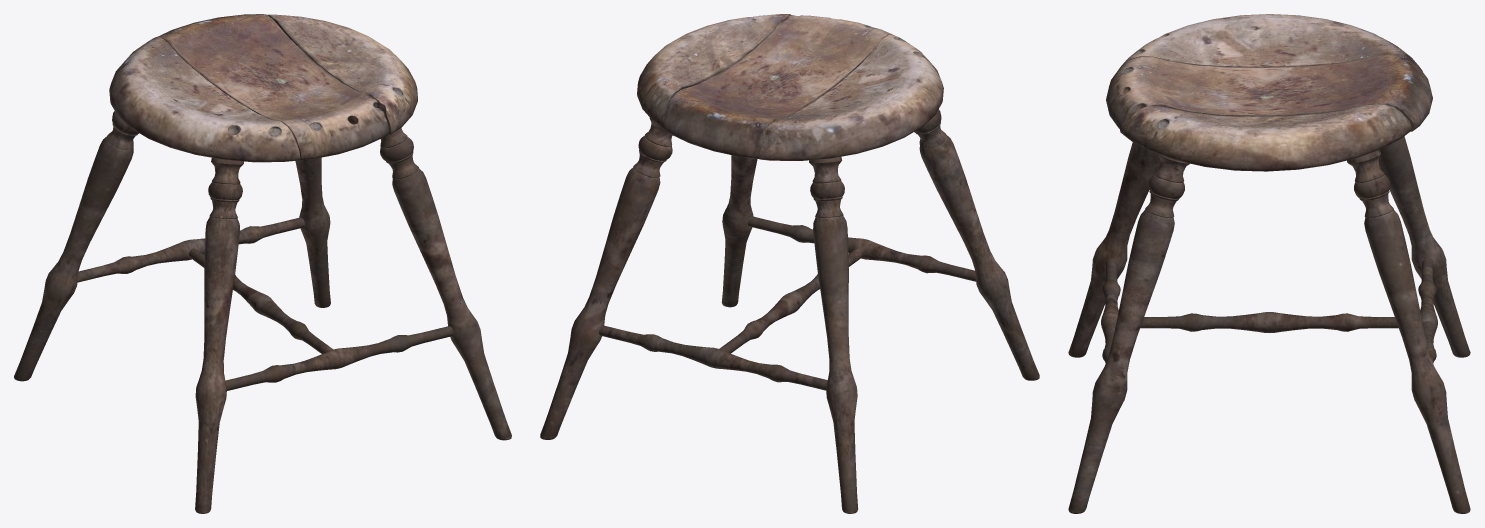
Rendered from wooden_stool_01.glb.
The picture shows the model from 3 angles, left to right: view 1: azimuth 30°, elevation 25°; view 2: azimuth 150°, elevation 25°; view 3: azimuth 270°, elevation 25°; orthographic projection. The views are drawn at different scales.
Bounding box in the file's own units: 0.4254 × 0.4373 × 0.4424.
Materials: 1 (1 with a texture image).
